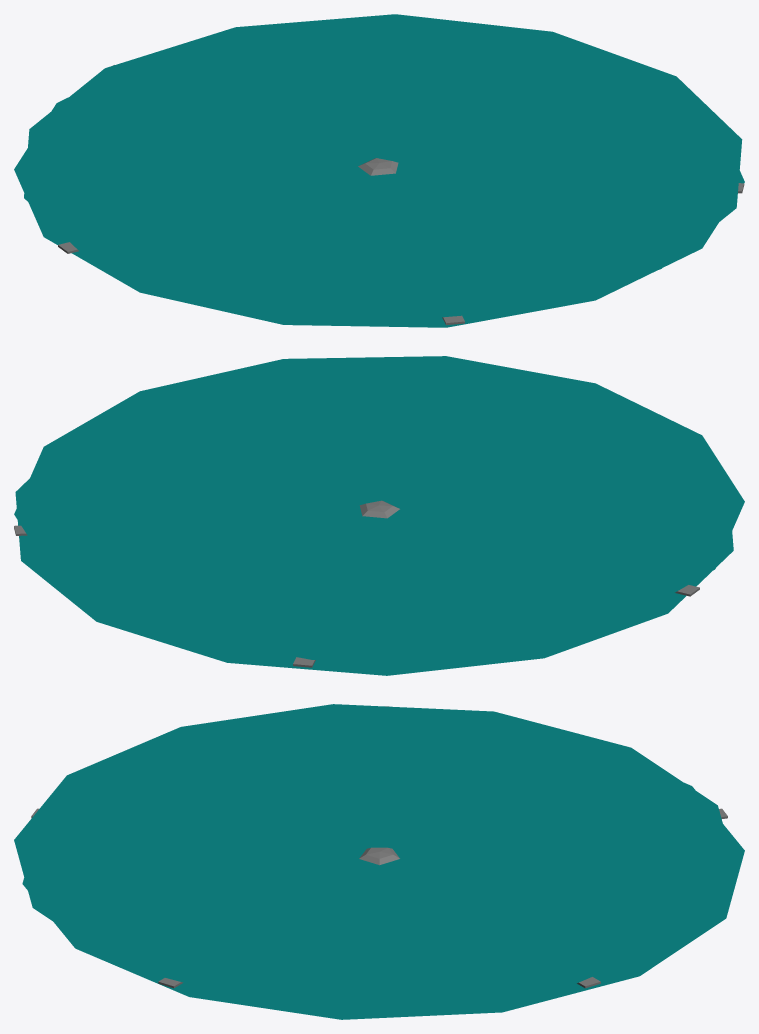
File: MDEXROTR.glb
3 renders of one model, top to bottom at view 1: azimuth 30°, elevation 25°; view 2: azimuth 150°, elevation 25°; view 3: azimuth 270°, elevation 25°, orthographic.
Parts seen in each view (by area): view 1: MDEXROTR | archived geometry; view 2: MDEXROTR | archived geometry; view 3: MDEXROTR | archived geometry.
Boxes of the visible parts, x1,y1,x2,y2 form: MDEXROTR | archived geometry: (14,14,744,327); MDEXROTR | archived geometry: (14,356,744,675); MDEXROTR | archived geometry: (14,704,744,1019).
Size of the model in its own units: 9.72 by 0.5657 by 9.78.
